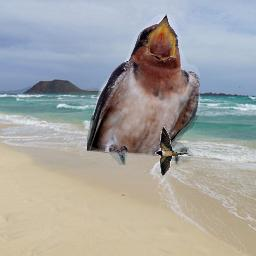Swallow: (87, 14, 200, 165), (155, 126, 192, 177)
